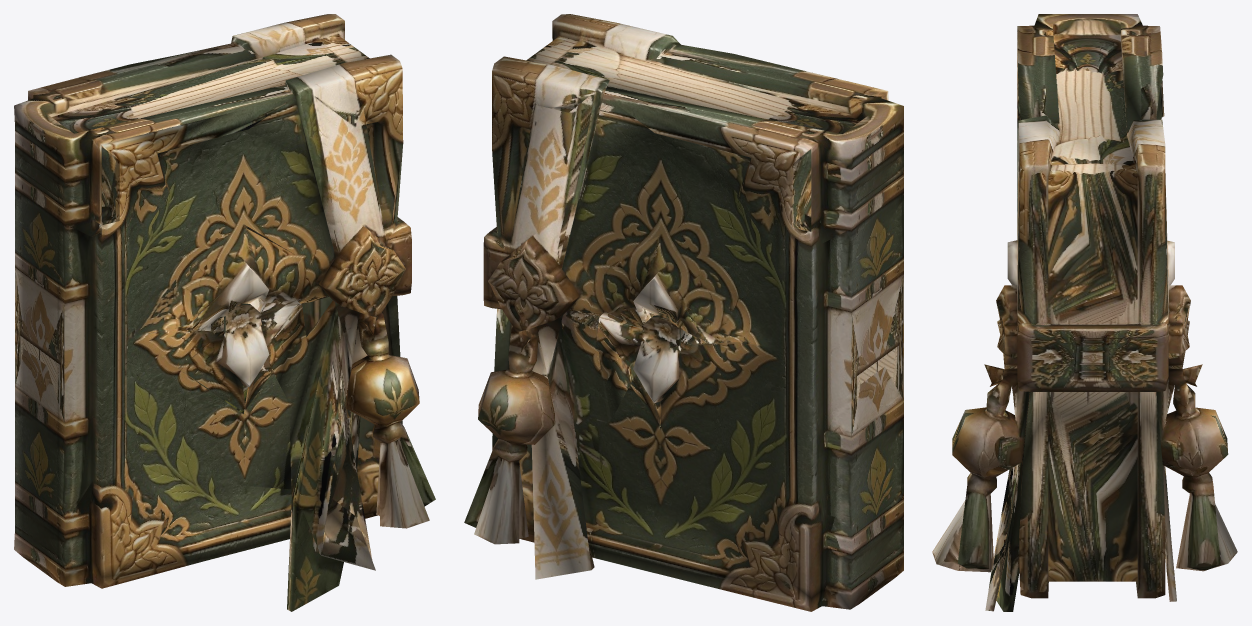
The model's file is book-tripo.glb.
The picture shows the model from 3 angles, left to right: view 1: azimuth 30°, elevation 25°; view 2: azimuth 150°, elevation 25°; view 3: azimuth 270°, elevation 25°; orthographic projection. The views are drawn at different scales.
Visible parts, largest first — view 1: ornate book 3d model; view 2: ornate book 3d model; view 3: ornate book 3d model.
Boxes of the visible parts, left/top/right/bottom form: ornate book 3d model: left=14, top=14, right=435, bottom=611; ornate book 3d model: left=464, top=14, right=903, bottom=611; ornate book 3d model: left=932, top=14, right=1237, bottom=611.
Size of the model in its own units: 0.6741 by 0.9759 by 0.5481.
1 material, 1 textured.
